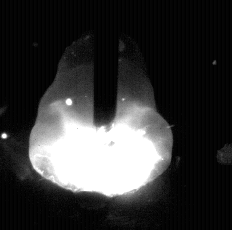arame: (94, 0, 118, 127)
poca: (29, 0, 173, 230)
